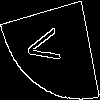V: (25, 25, 69, 68)
